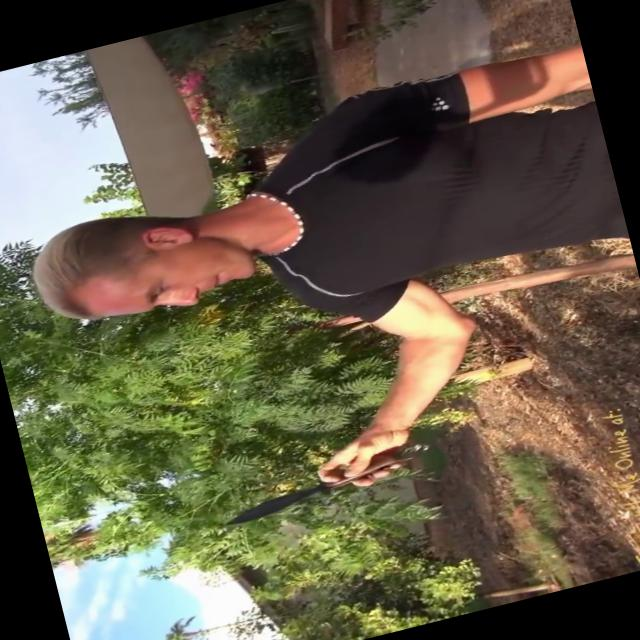knife: (210, 430, 441, 535)
